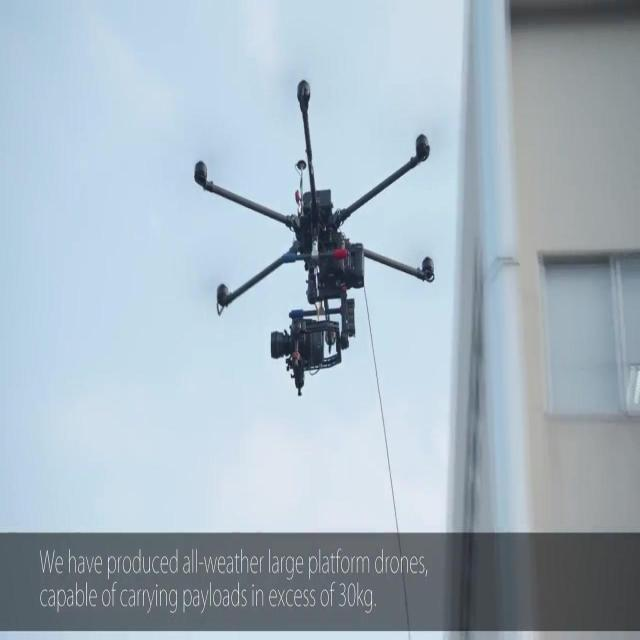drone: (190, 77, 438, 400)
